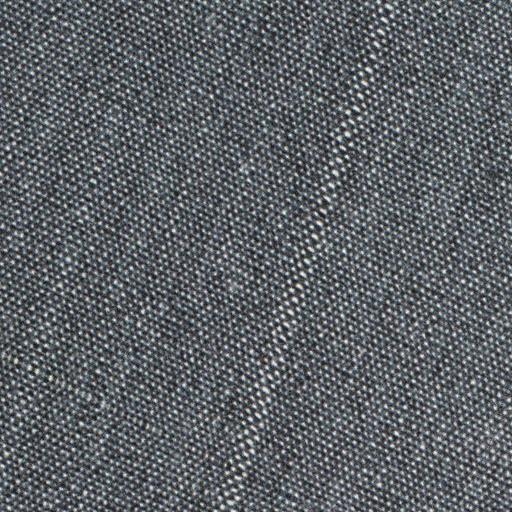slub: (210, 1, 408, 512)
